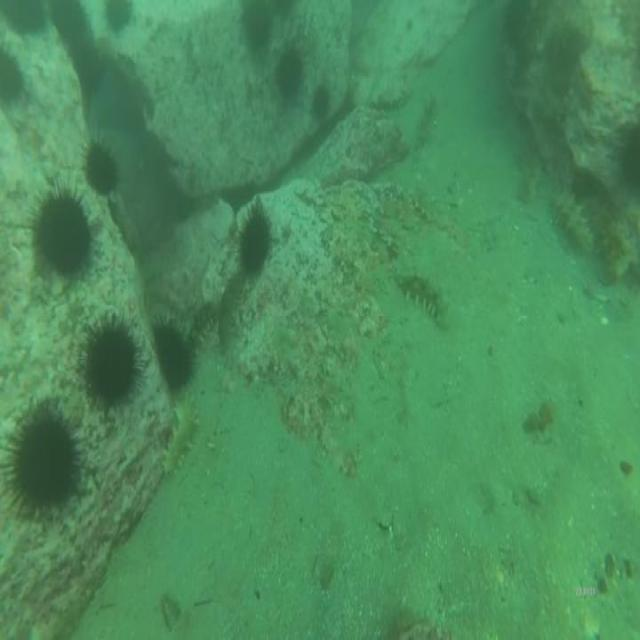echinus: (1, 395, 93, 534), (23, 172, 99, 292), (72, 305, 147, 417), (147, 310, 195, 392), (237, 200, 276, 288), (76, 128, 122, 201), (268, 36, 308, 109), (238, 1, 276, 57), (0, 43, 36, 101), (0, 0, 52, 40), (102, 0, 137, 38), (308, 76, 334, 123)
holothurian: (397, 267, 455, 337), (548, 186, 596, 262), (163, 396, 201, 478), (214, 266, 250, 352), (408, 92, 442, 150), (520, 141, 547, 207), (410, 175, 442, 228), (185, 300, 217, 348)
